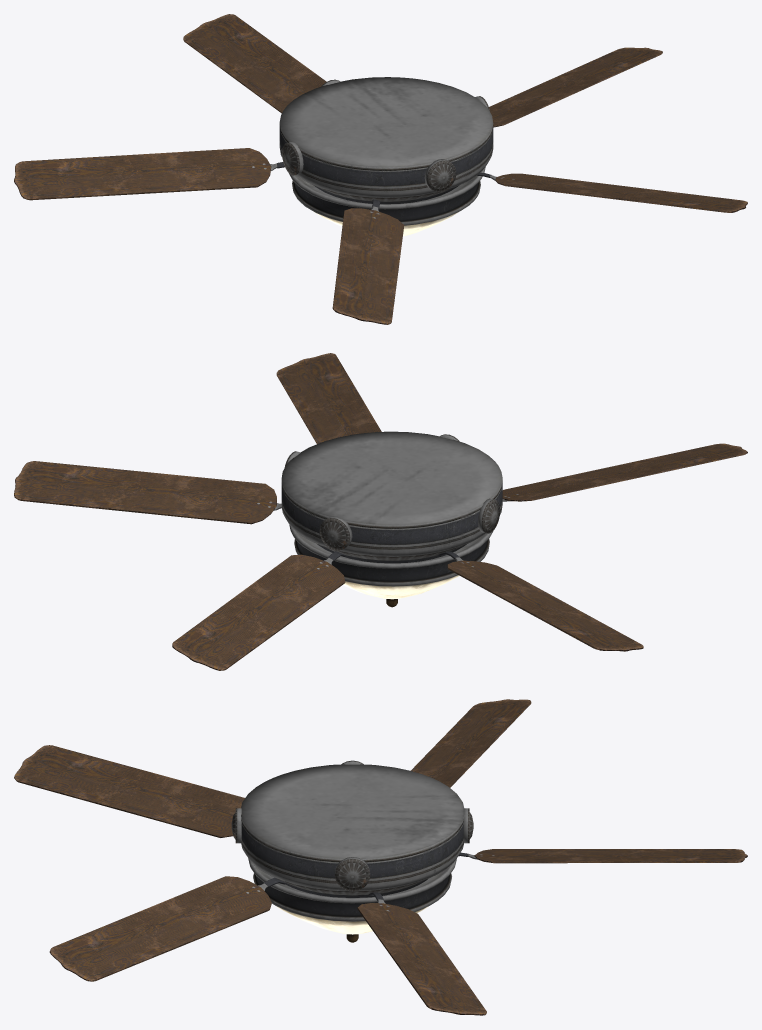
File: old_ceiling_fan.glb
The picture shows the model from 3 angles, top to bottom: view 1: azimuth 30°, elevation 25°; view 2: azimuth 150°, elevation 25°; view 3: azimuth 270°, elevation 25°; orthographic projection. The views are drawn at different scales.
Parts seen in each view (by area): view 1: Vent_Blades, Vent_Main; view 2: Vent_Blades, Vent_Main; view 3: Vent_Blades, Vent_Main.
Boxes of the visible parts, <box> form: Vent_Blades: <box>14,14,747,324</box>; Vent_Main: <box>279,77,493,236</box>; Vent_Blades: <box>14,353,747,670</box>; Vent_Main: <box>281,431,502,607</box>; Vent_Blades: <box>14,699,747,1015</box>; Vent_Main: <box>231,760,473,942</box>.
Bounding box in the file's own units: 35.48 × 6.86 × 34.63.
Materials: 1 (1 with a texture image).
